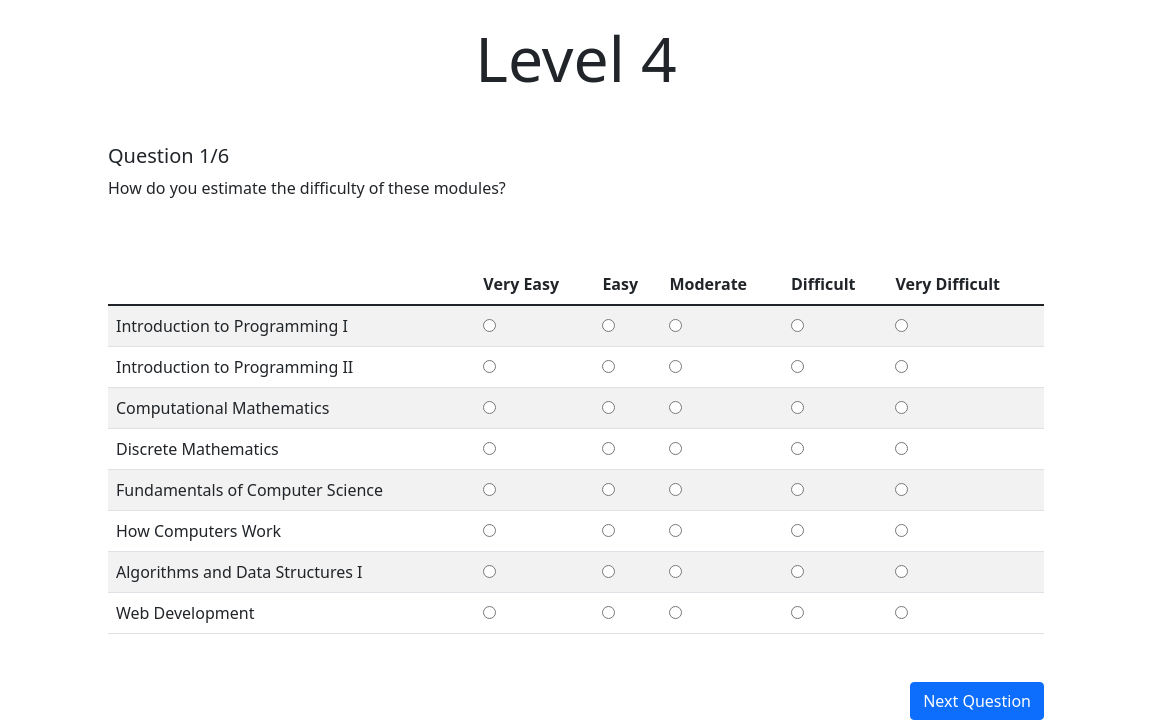
Scenario: Surveys.jsx › allows navigation between questions
(page scrolled)
# Click the "Next Question" button
What coordinates should you click on to do the following:
click the button "Next Question"
I would click on:
 (977, 701)
Its box is [910,682,1044,719].
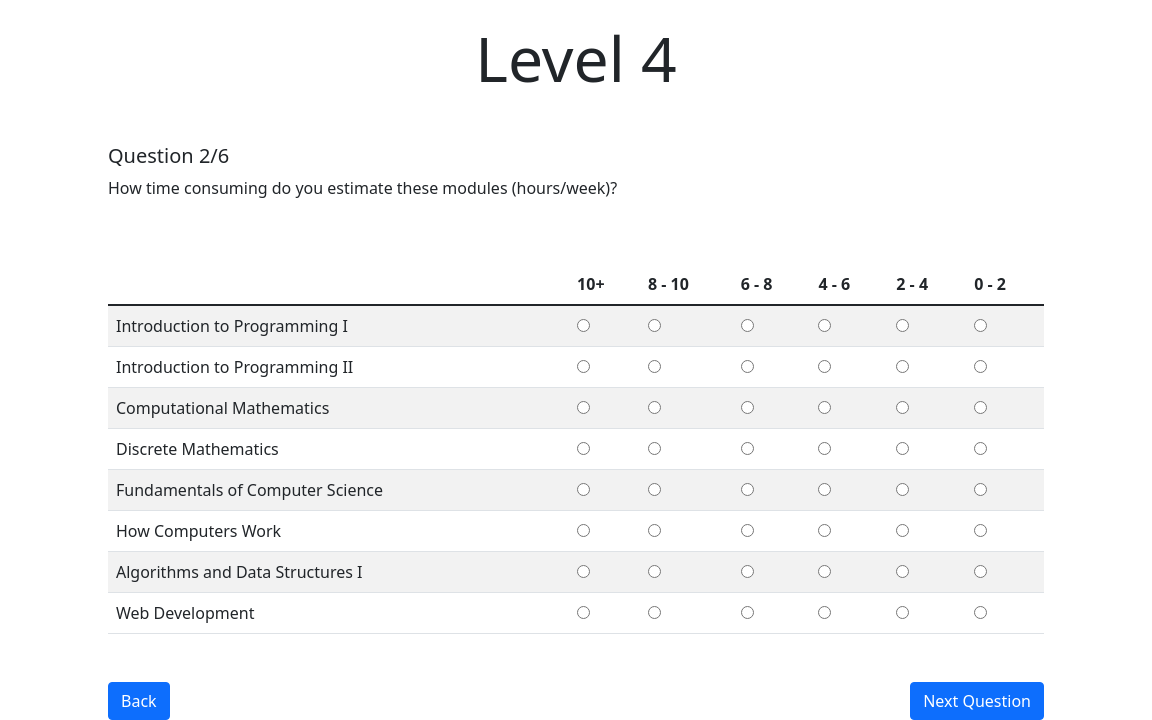
Check: the heading "Question 2/6" is shown, box [108,142,229,169]
# Click the "Back" button
What coordinates should you click on to do the following:
click the button "Back"
I would click on:
 (139, 701)
Its box is [108,682,170,719].
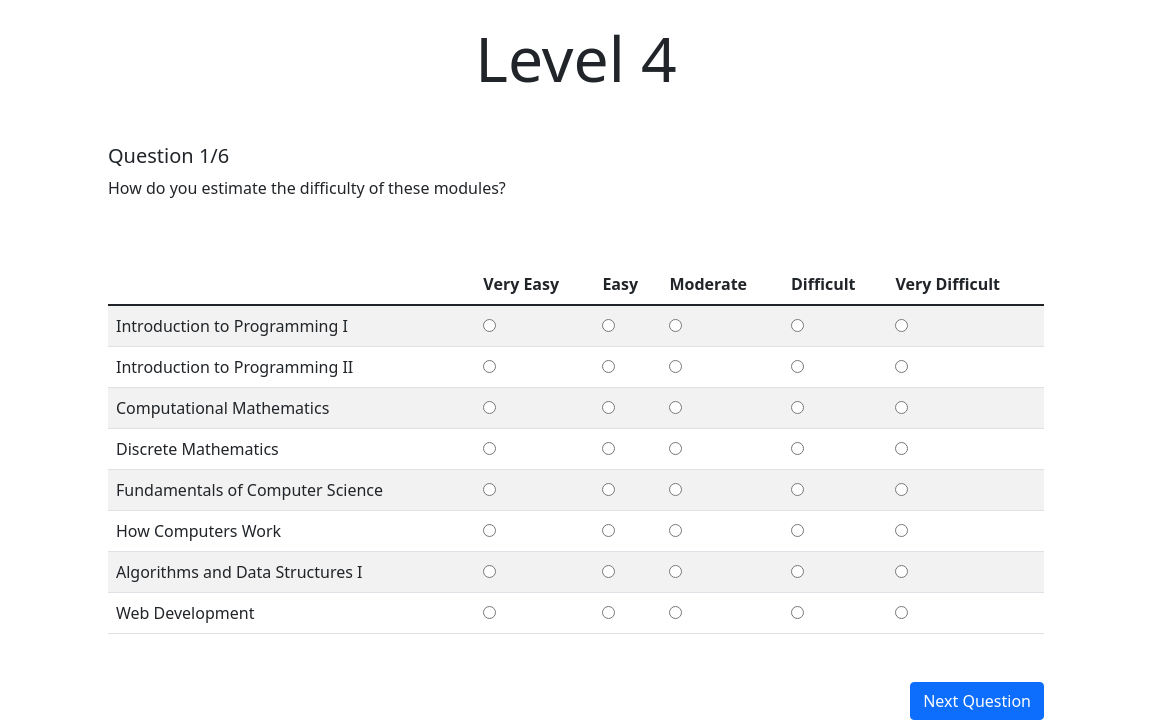
Check: the heading "Question 1/6" is shown, box [108,142,229,169]
